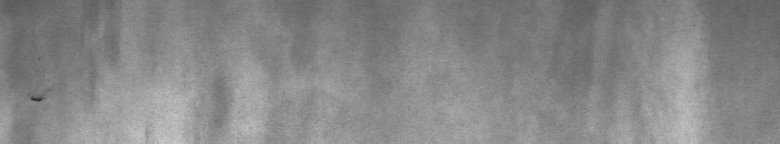fi: (28, 88, 50, 108)
